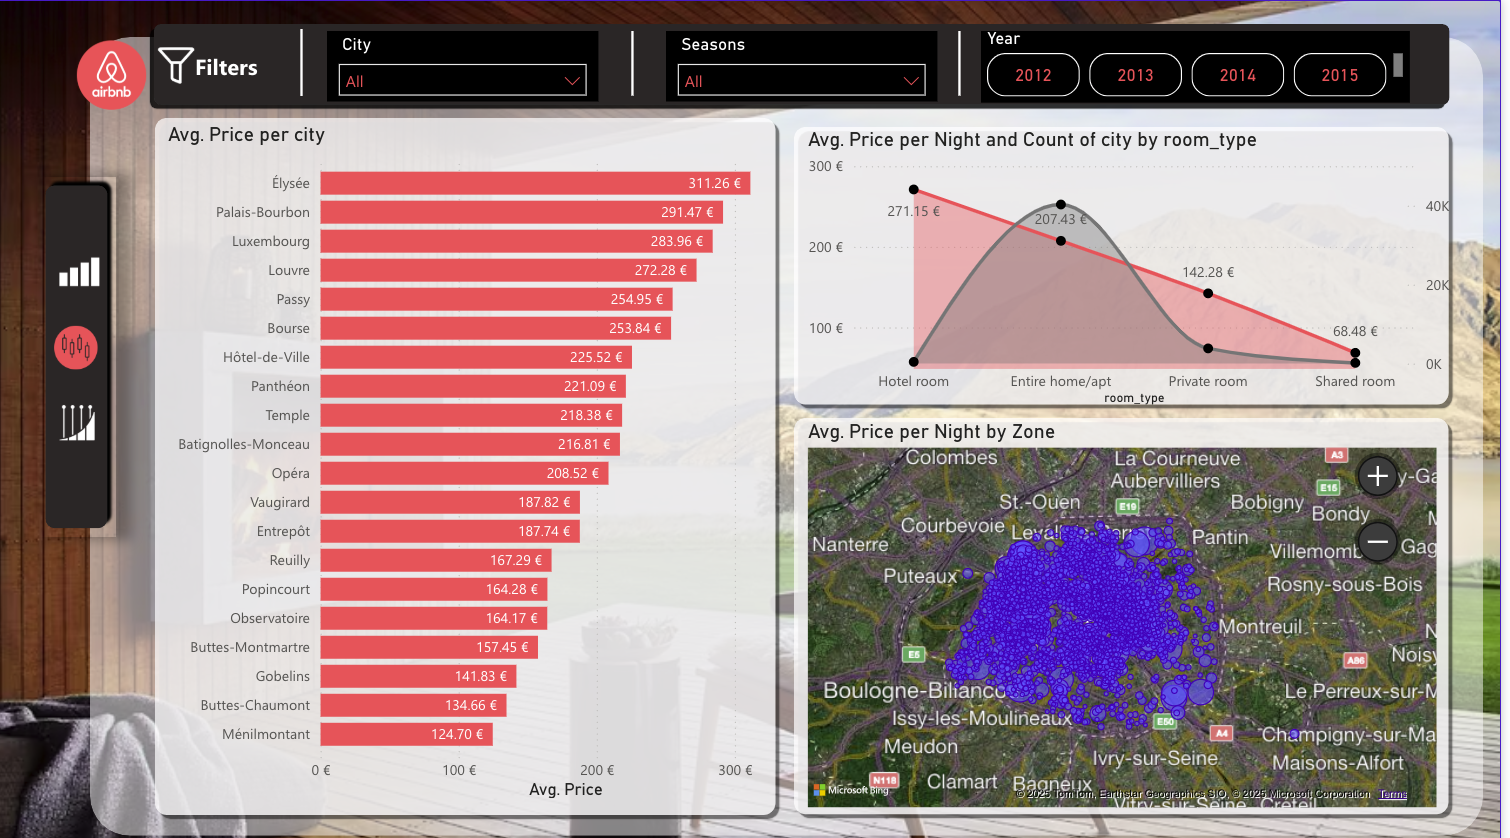

This screenshot's page, from the dashboard's own definition file:
{"tool":"powerbi","page":{"name":"Page 2","canvas":[1280,720],"ordinal":2},"visuals":[{"type":"shape","box":[78.8,31.1,1185.7,679.9],"z":0},{"type":"shape","box":[34,150.8,67.1,306.4],"z":1000},{"type":"image","box":[63.2,26.3,69.1,75.9],"z":2000},{"type":"shape","box":[128.4,15.6,1112.7,78.8],"z":3000},{"type":"textbox","box":[163.4,38.9,77.8,47.7],"z":4000},{"type":"image","box":[132.3,33.1,40.9,44.7],"z":5000},{"type":"shape","box":[230.5,24.3,57.4,57.4],"z":6000},{"type":"shape","box":[512.6,26.3,57.4,55.4],"z":7000},{"type":"image","box":[44.7,338.5,46.7,41.8],"z":10000},{"type":"shape","box":[128.4,94.3,539.8,605],"z":11000},{"type":"shape","box":[672.1,350.2,569,349.2],"z":12000},{"type":"shape","box":[672.1,102.1,569,248],"z":13000},{"type":"slicer","fields":{"Values":["listings.city"]},"box":[281.1,26.3,231.5,60.3],"z":14000},{"type":"slicer","fields":{"Values":["listings.seasons"]},"box":[569,26.3,231.5,60.3],"z":15000},{"type":"shape","box":[790.8,26.3,57.4,55.4],"z":16000},{"type":"advancedSlicerVisual","fields":{"Values":["listings.Year"]},"box":[837.4,26.3,364.7,61.3],"z":17000},{"type":"barChart","title":"Avg. Price per  city","fields":{"Category":["listings.city"],"Y":["Dates.Avg. Price per Night"]},"box":[140.1,107,572.9,576.8],"z":18000},{"type":"map","title":"Avg. Price per Night by Zone","fields":{"Y":["listings.latitude"],"X":["listings.longitude"],"Size":["Dates.Avg. Price per Night"]},"box":[684.7,359.9,544.7,331.7],"z":19000},{"type":"areaChart","fields":{"Category":["listings.room_type"],"Y":["Dates.Avg. Price per Night"],"Y2":["CountNonNull(listings.city)"]},"box":[684.7,111.9,556.4,238.3],"z":20000},{"type":"image","box":[37,272.3,61.3,46.7],"z":20001},{"type":"image","box":[44.7,209.1,50.6,43.8],"z":20002}]}

Visuals, with their boxes on the page's 1280x720 design canvas (x1, y1, x2, y2). These are canvas units, not pixel positions in the 1510x838 screenshot, which may show the page scaled, cropped or inside an application window:
shape: 79, 31, 1264, 711
shape: 34, 151, 101, 457
image: 63, 26, 132, 102
shape: 128, 16, 1241, 94
textbox: 163, 39, 241, 87
image: 132, 33, 173, 78
shape: 230, 24, 288, 82
shape: 513, 26, 570, 82
image: 45, 338, 91, 380
shape: 128, 94, 668, 699
shape: 672, 350, 1241, 699
shape: 672, 102, 1241, 350
slicer - listings.city: 281, 26, 513, 87
slicer - listings.seasons: 569, 26, 800, 87
shape: 791, 26, 848, 82
advancedSlicerVisual - listings.Year: 837, 26, 1202, 88
"Avg. Price per  city" barChart: 140, 107, 713, 684
"Avg. Price per Night by Zone" map: 685, 360, 1229, 692
areaChart - listings.room_type x Dates.Avg. Price per Night: 685, 112, 1241, 350
image: 37, 272, 98, 319
image: 45, 209, 95, 253
